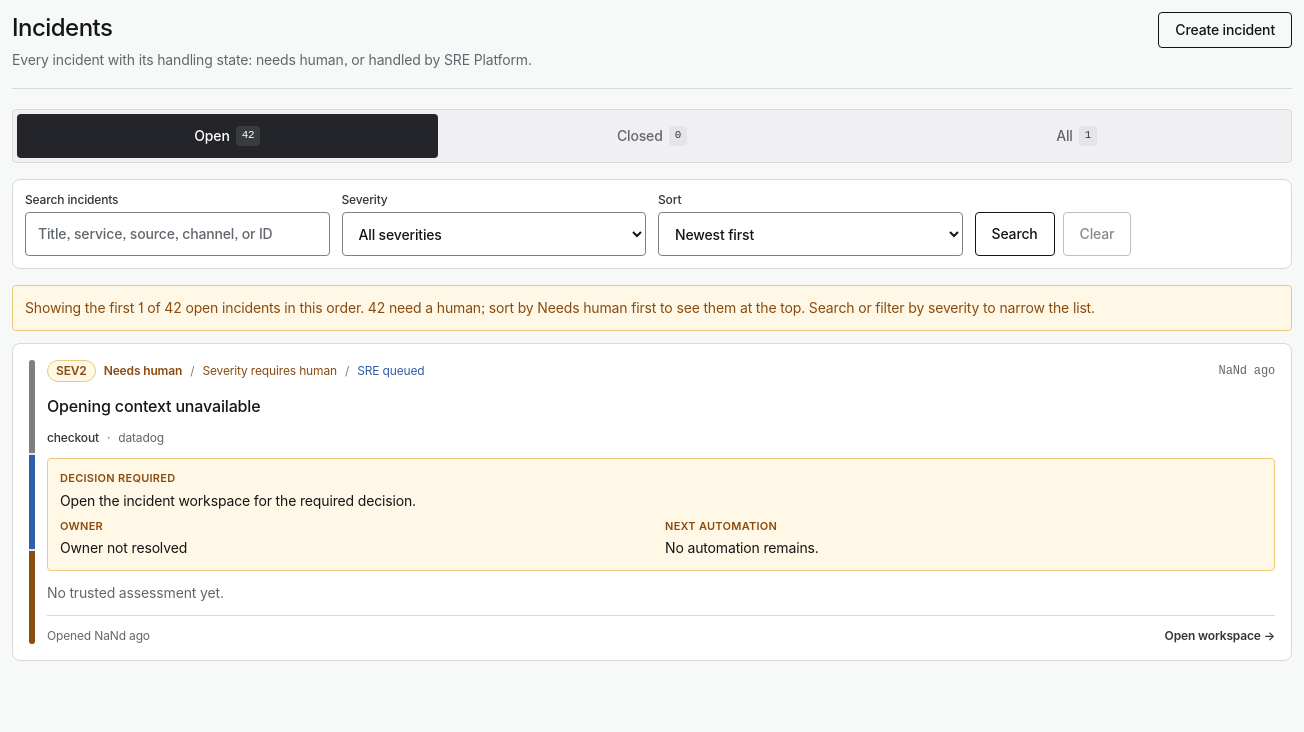
Test: IncidentsPanel status tabs › does not describe filtered matches as a truncated queue
This screenshot has width=1304, height=732.
Type "checkout" into the search field labelled "Search incidents" at [177, 234], box [25,212,330,256]
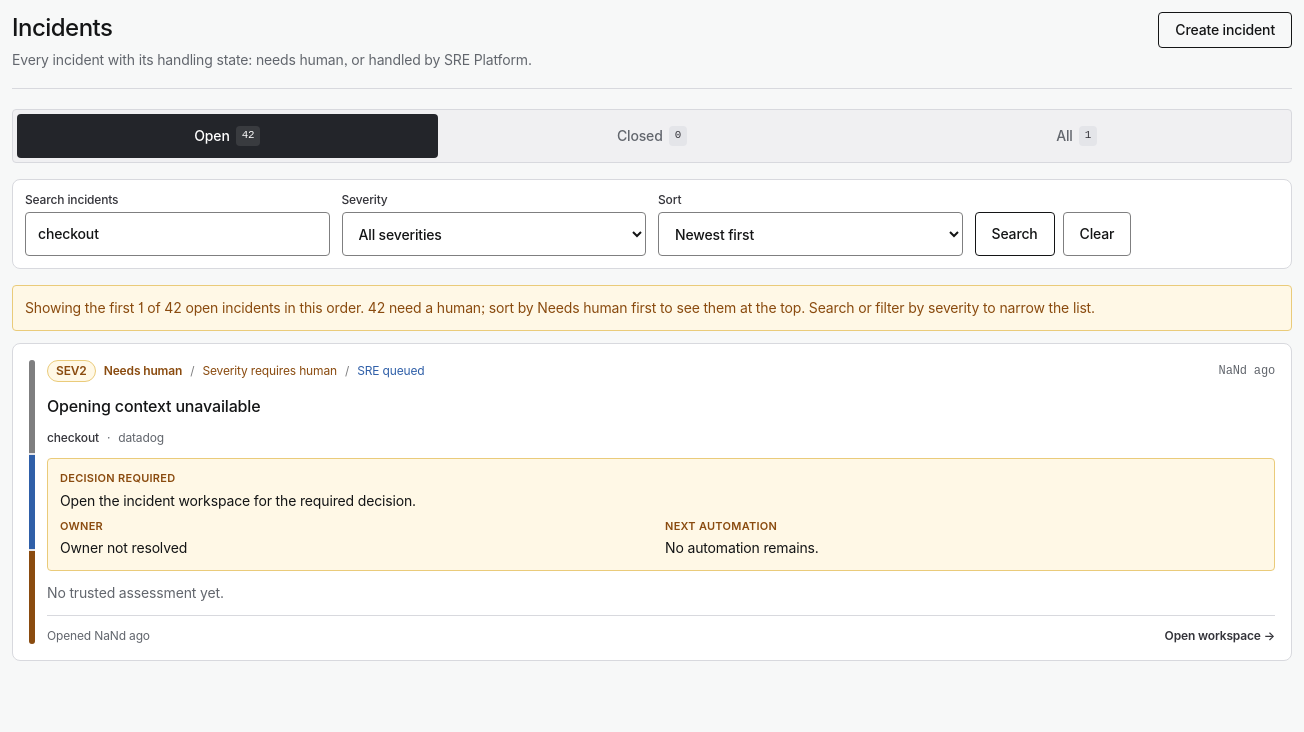
Click the button "Search" at [1015, 234], box [974,212,1055,256]
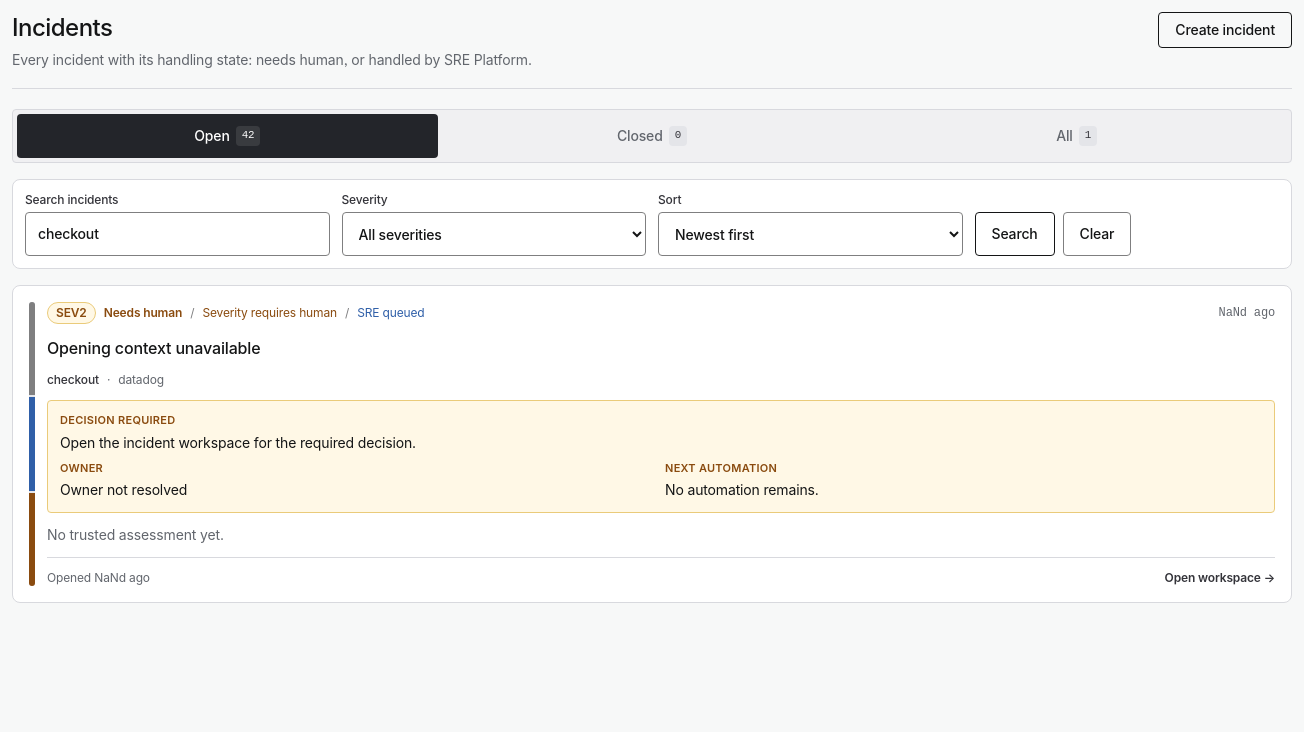
Check: the text "of 42 open incidents" is gone
